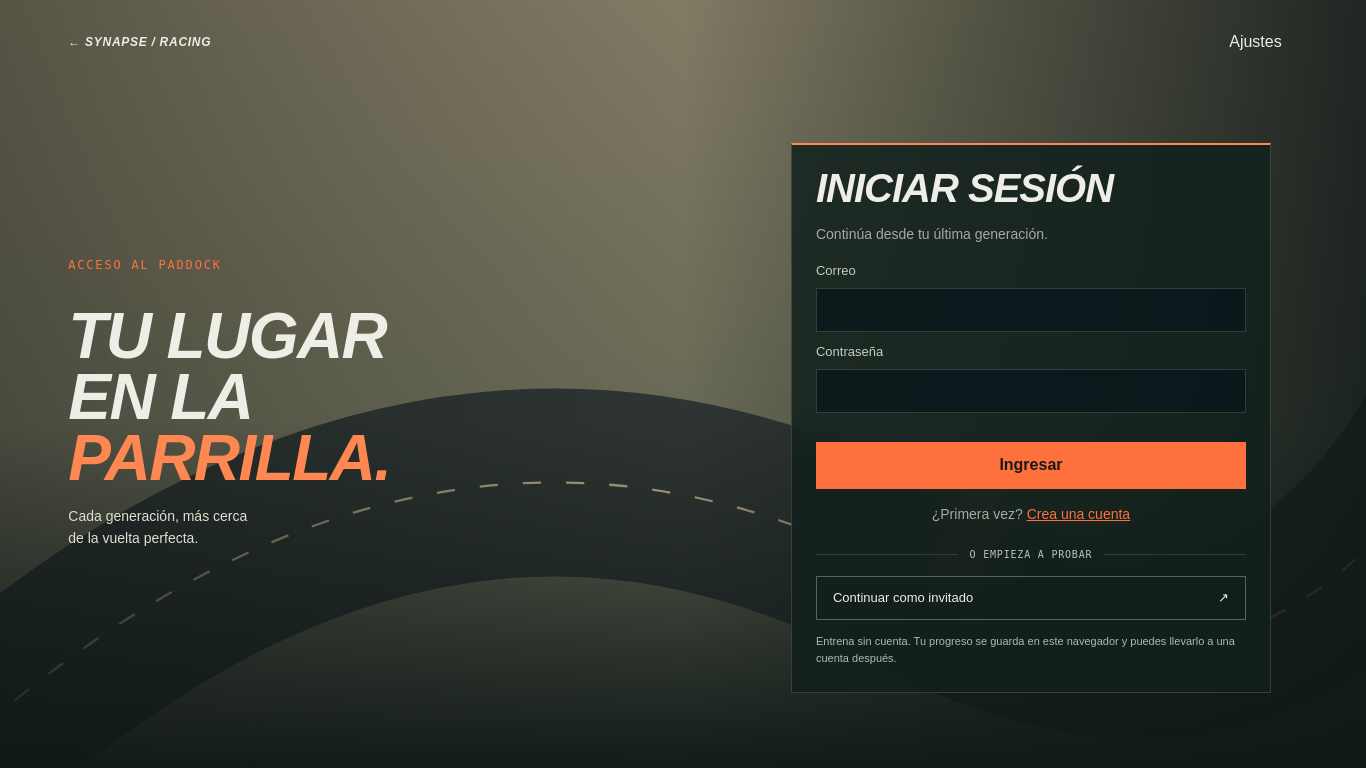
Test: authentication navigation › opens the dashboard after a valid login
The image size is (1366, 768).
Type "driver@example.com" into the field labelled "Correo" at (1031,310), box [816, 288, 1246, 332]
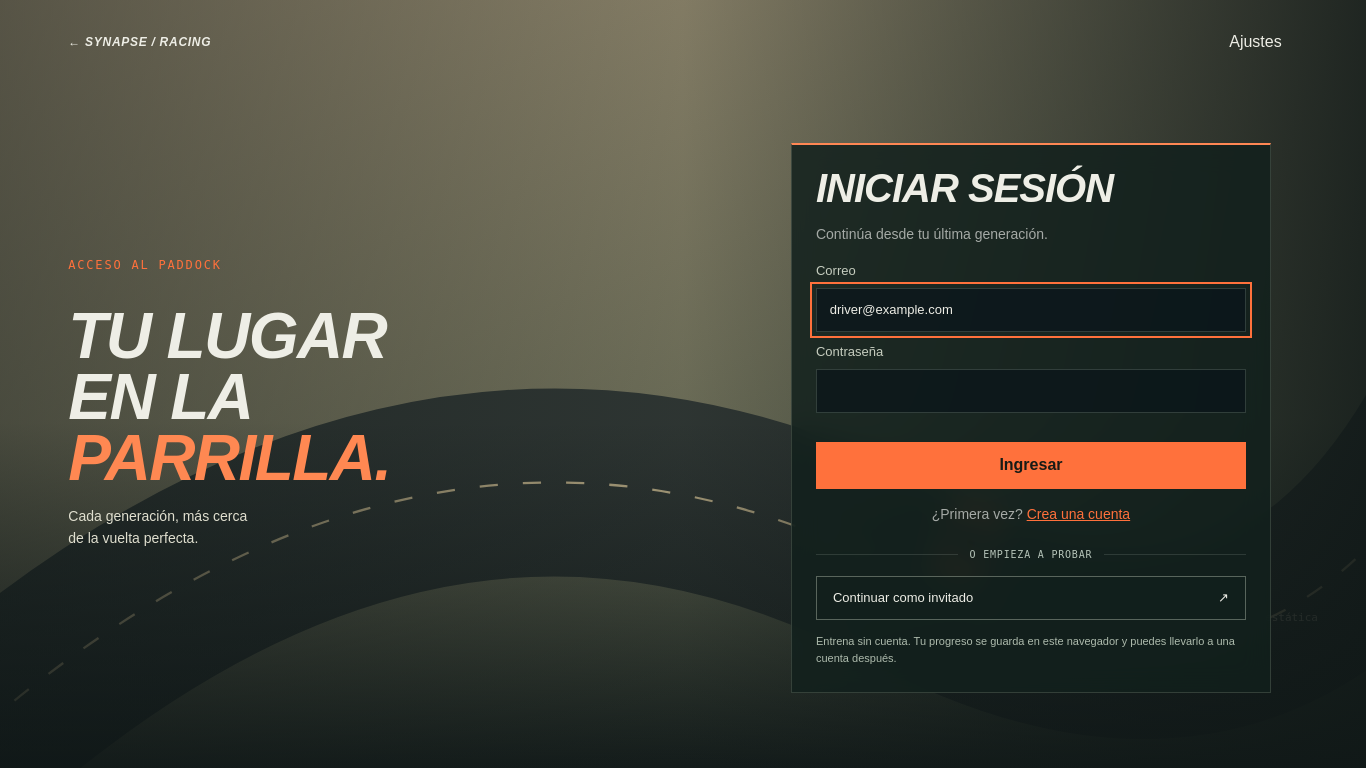
Type "secure-pass-123" into the password field labelled "Contraseña" at (1031,391), box [816, 369, 1246, 413]
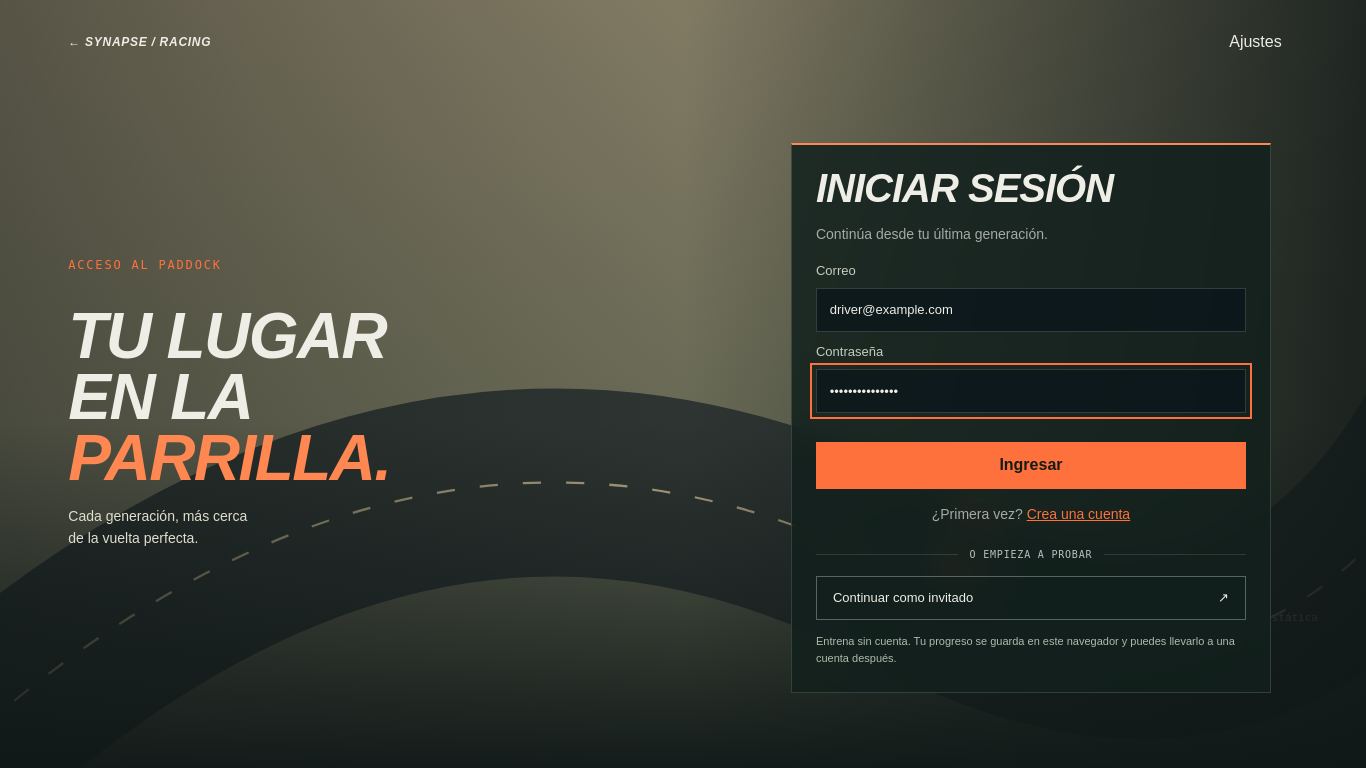
Click the button "Ingresar" at (1031,465), box [816, 442, 1246, 489]
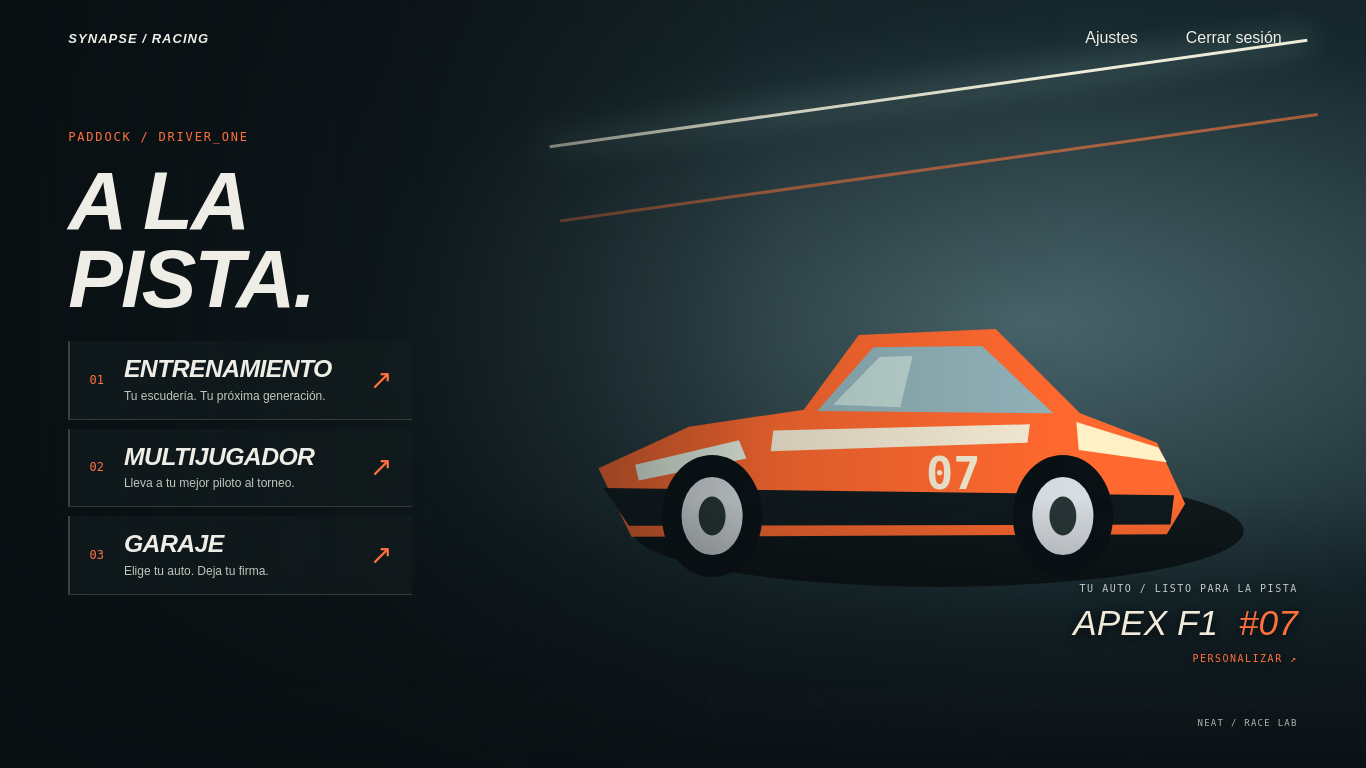
Now the heading "A LA PISTA." is shown, box [68, 155, 314, 324]
